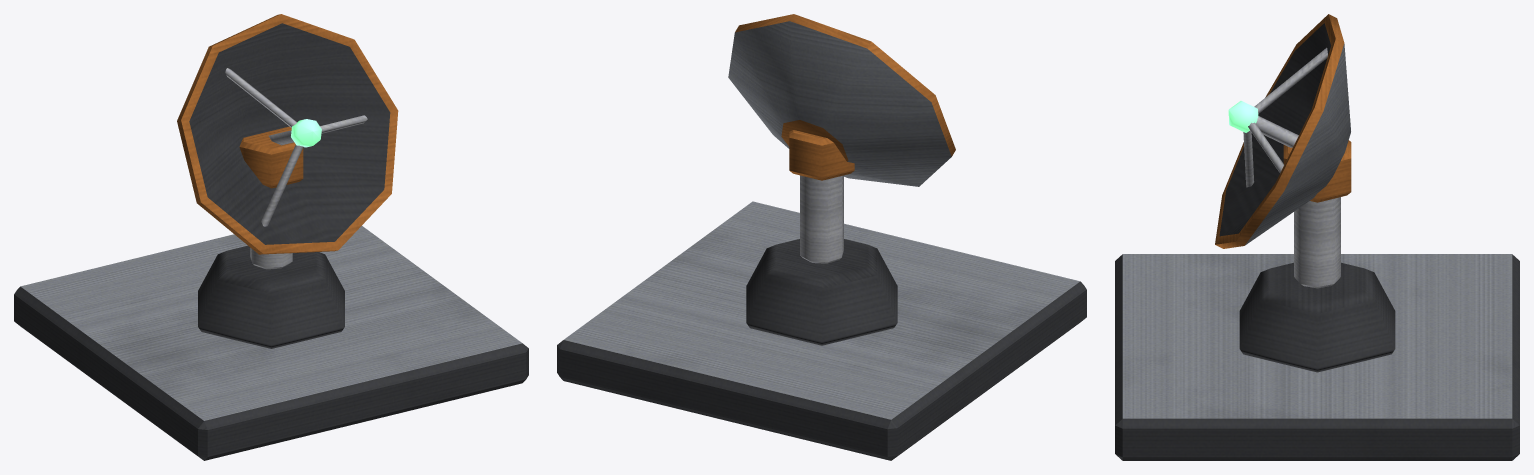
The model's file is R4X_Radar_LOD1.glb.
The picture shows the model from 3 angles, left to right: view 1: azimuth 30°, elevation 25°; view 2: azimuth 150°, elevation 25°; view 3: azimuth 270°, elevation 25°; orthographic projection. The views are drawn at different scales.
Visible parts, largest first — view 1: R4X_Radar_LOD1; view 2: R4X_Radar_LOD1; view 3: R4X_Radar_LOD1.
Part boxes in pixels (bbox=[...]): R4X_Radar_LOD1: bbox=[14, 14, 528, 460]; R4X_Radar_LOD1: bbox=[557, 14, 1086, 460]; R4X_Radar_LOD1: bbox=[1115, 14, 1519, 460].
Bounding box in the file's own units: 0.52 × 0.4955 × 0.52.
Materials: 5 (4 with a texture image).
